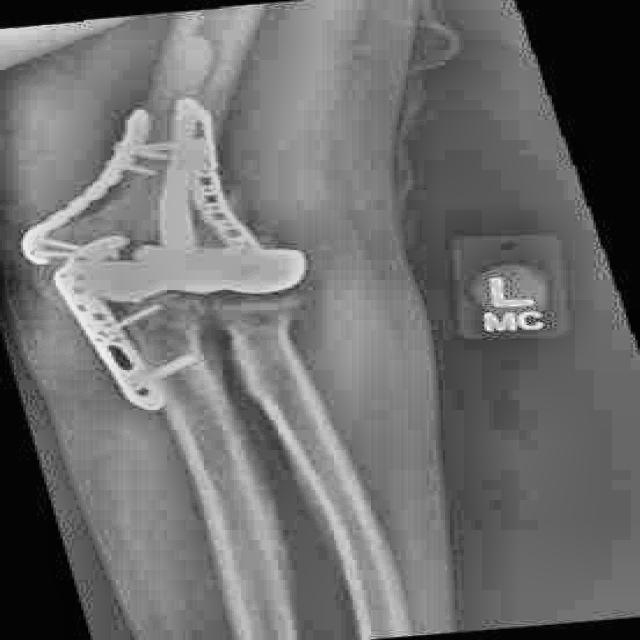elbow positive: (92, 277, 220, 342), (194, 160, 279, 242)
